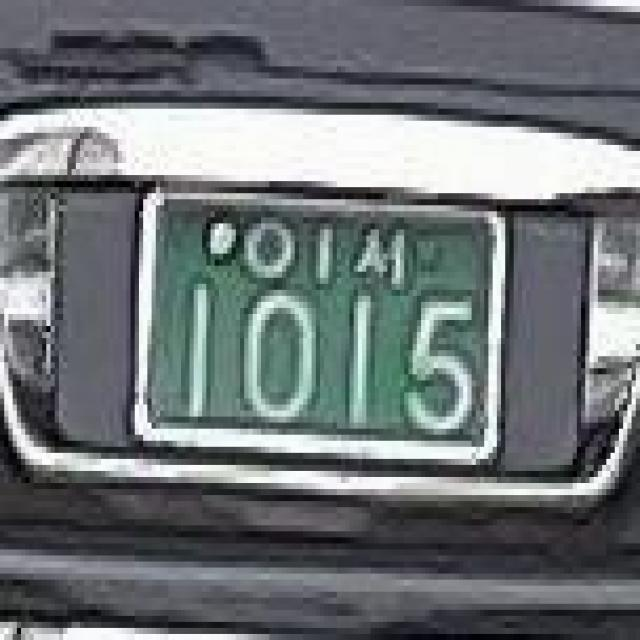illegal_plate: (118, 169, 519, 485)
